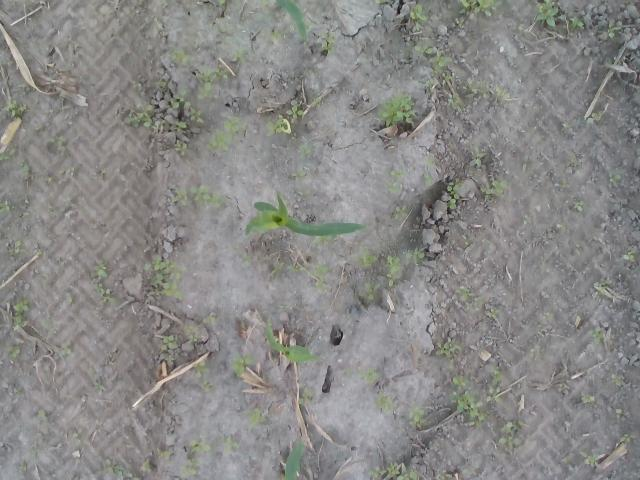Maize: (243, 190, 367, 237), (265, 316, 320, 363), (272, 0, 308, 43), (284, 436, 304, 480)
Weeds: (448, 372, 491, 430), (139, 255, 186, 302), (89, 255, 122, 306), (207, 112, 247, 153), (415, 37, 452, 81), (376, 88, 418, 126), (216, 22, 248, 66), (173, 185, 226, 210), (180, 438, 213, 478), (194, 68, 228, 103), (126, 98, 162, 130), (458, 78, 511, 99), (447, 0, 511, 17), (368, 461, 418, 480), (101, 457, 142, 480), (496, 418, 526, 448), (263, 114, 297, 140), (479, 175, 514, 200), (456, 285, 486, 313), (409, 1, 434, 33), (532, 0, 560, 27), (444, 176, 466, 210), (434, 335, 465, 359), (307, 262, 330, 294), (229, 350, 256, 377), (486, 366, 504, 406), (166, 46, 197, 68), (0, 98, 31, 120), (158, 334, 182, 361), (385, 254, 403, 289), (382, 168, 408, 192), (271, 262, 305, 280), (246, 406, 271, 430), (12, 298, 32, 328), (408, 406, 431, 431), (319, 29, 337, 58), (182, 323, 202, 349), (168, 87, 192, 108), (468, 143, 488, 168), (374, 390, 396, 412), (354, 244, 376, 266), (298, 382, 316, 408), (357, 366, 382, 384), (217, 435, 240, 454), (0, 341, 22, 359), (586, 326, 608, 344), (187, 107, 208, 125), (366, 278, 382, 301), (199, 312, 223, 327), (46, 134, 66, 152), (566, 14, 586, 32), (606, 22, 624, 42), (404, 246, 424, 264), (192, 360, 211, 378), (591, 278, 610, 296), (619, 431, 640, 447), (553, 175, 574, 191), (7, 238, 25, 256), (392, 206, 409, 224), (580, 394, 601, 408), (286, 103, 303, 120), (528, 344, 546, 360), (14, 82, 32, 98), (174, 138, 190, 156), (31, 406, 49, 422), (608, 171, 624, 188), (422, 78, 438, 95), (296, 143, 314, 158), (0, 144, 15, 161), (15, 160, 33, 174), (308, 90, 322, 108), (582, 452, 600, 466), (129, 79, 144, 95), (269, 30, 289, 42), (446, 94, 460, 111), (198, 380, 217, 392), (0, 199, 16, 213), (172, 118, 188, 132), (572, 196, 586, 212), (586, 110, 604, 122), (449, 16, 465, 29), (288, 170, 305, 182), (242, 253, 252, 273), (610, 372, 624, 386), (155, 447, 170, 460), (560, 122, 576, 134), (624, 248, 636, 264), (515, 16, 526, 33), (141, 458, 154, 472), (150, 78, 168, 88), (575, 240, 586, 256), (484, 307, 497, 320), (62, 341, 74, 355), (16, 460, 28, 474), (71, 432, 81, 448), (95, 382, 108, 394), (15, 382, 23, 401), (214, 0, 227, 11), (17, 211, 31, 221), (424, 154, 434, 168), (614, 406, 625, 418), (67, 167, 80, 177), (567, 156, 577, 168), (422, 176, 432, 188), (30, 448, 38, 462), (34, 246, 45, 256), (438, 469, 448, 480), (160, 0, 177, 6), (558, 382, 568, 392), (258, 0, 270, 8), (558, 223, 568, 232), (544, 312, 554, 320), (606, 56, 616, 64), (463, 239, 470, 248), (374, 0, 385, 5)
